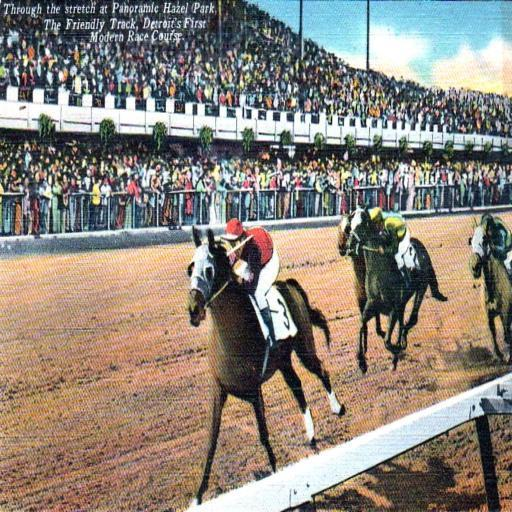horse: (188, 222, 346, 506), (344, 200, 450, 376), (332, 210, 388, 354), (466, 214, 512, 364)
